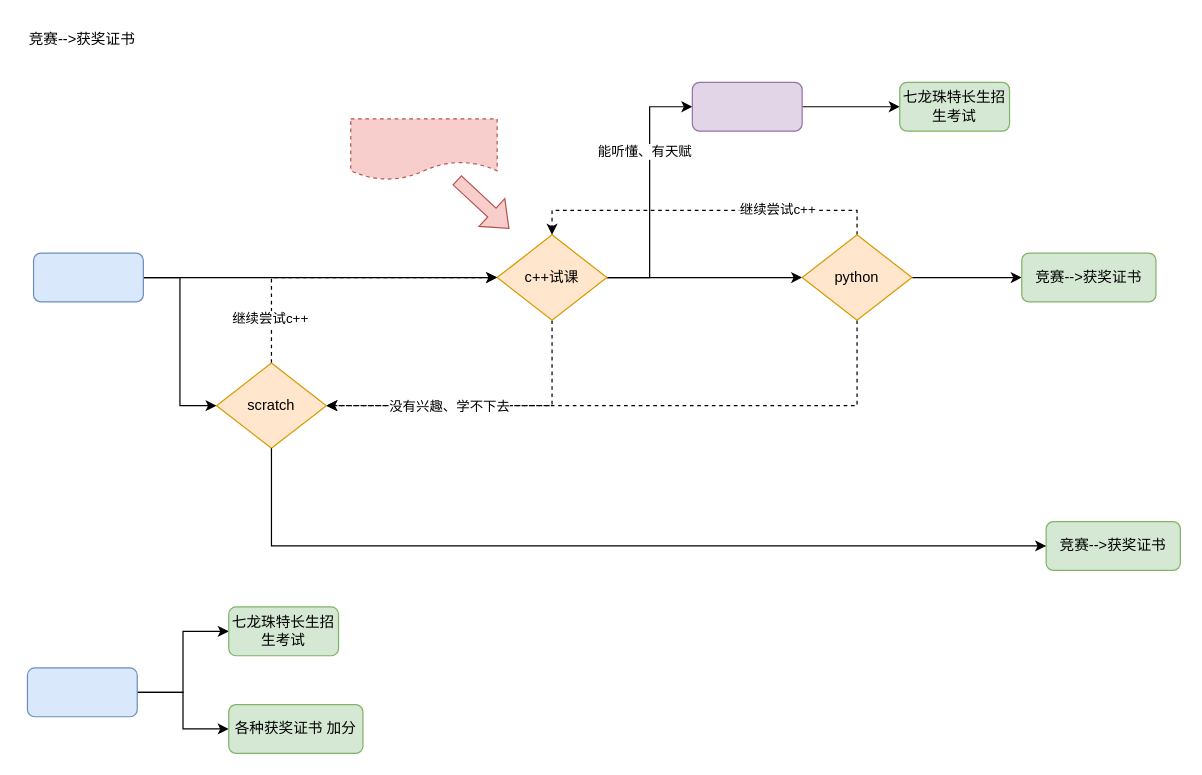
This 1202x775 diagram has some shape labels left out. Each missing label, with the centre of its shape:
CCF编程能力等级认证: pixel 746 106
七龙珠招生: pixel 81 692
奥数，对学习 c++有帮助: pixel 423 149
学习路径: pixel 87 277
